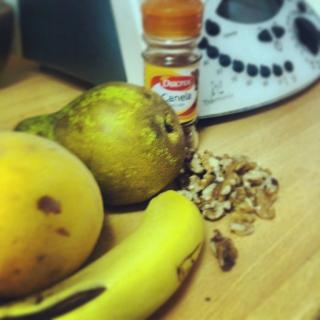Banana: (0, 188, 203, 319)
